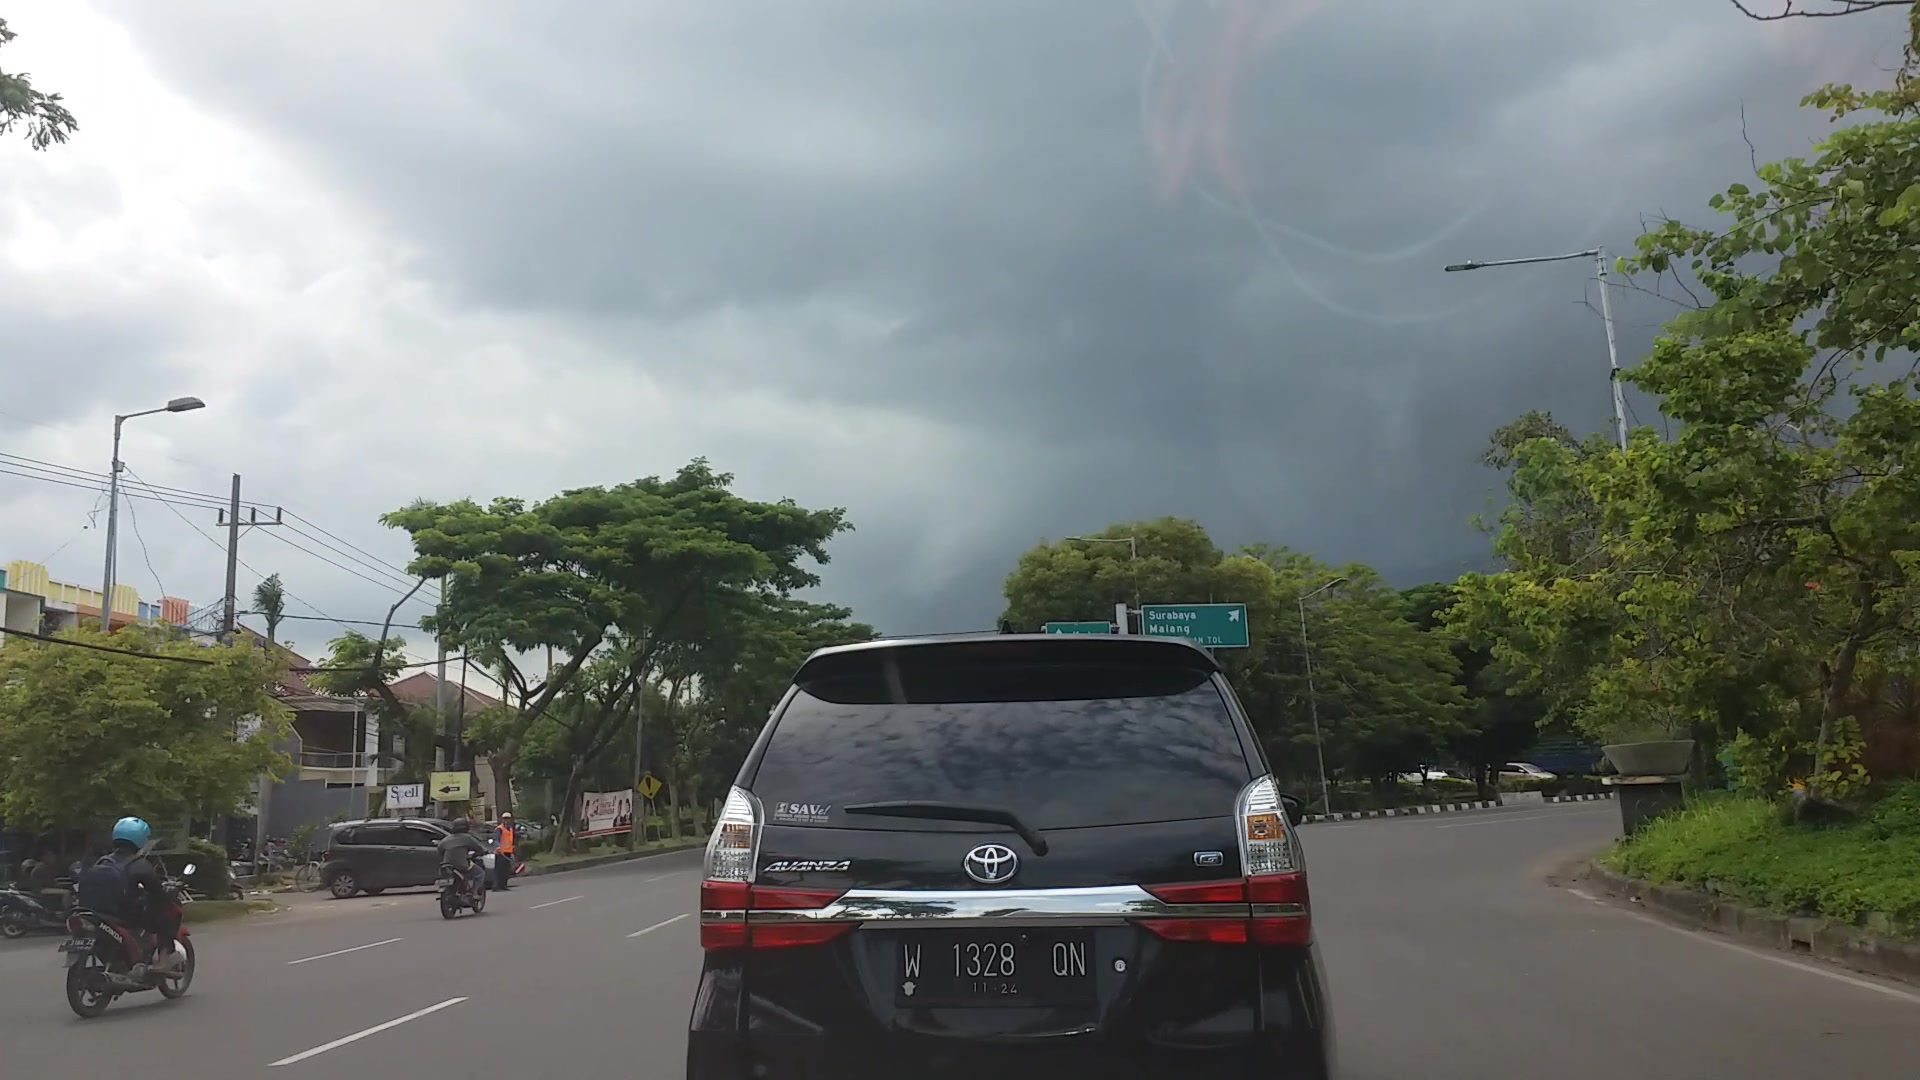plate_positive: (897, 927, 1097, 1007)
